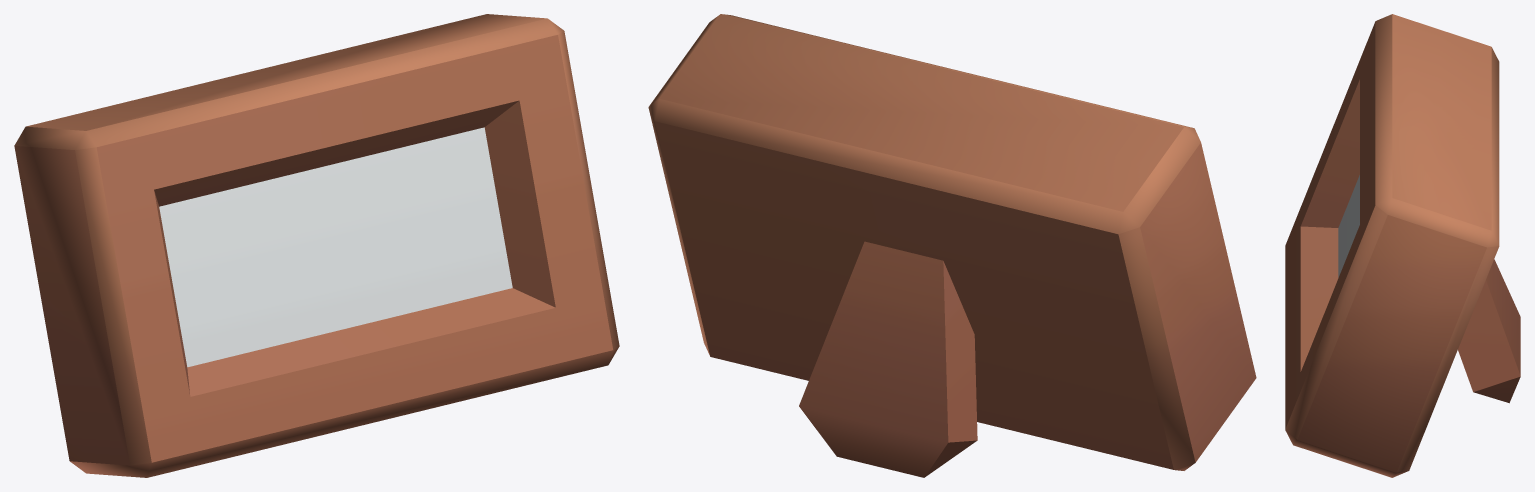
Rendered from pictureframe_standing_B.glb.
3 renders of one model, left to right at view 1: azimuth 30°, elevation 25°; view 2: azimuth 150°, elevation 25°; view 3: azimuth 270°, elevation 25°, orthographic. The views are drawn at different scales.
Parts seen in each view (by area): view 1: pictureframe_standing_B; view 2: pictureframe_standing_B; view 3: pictureframe_standing_B.
Part boxes in pixels (x1,y1,x2,y2): pictureframe_standing_B: (14,14,619,477); pictureframe_standing_B: (648,14,1256,477); pictureframe_standing_B: (1285,14,1520,477).
Size of the model in its own units: 0.7 by 0.4681 by 0.3571.
1 material, 1 textured.
